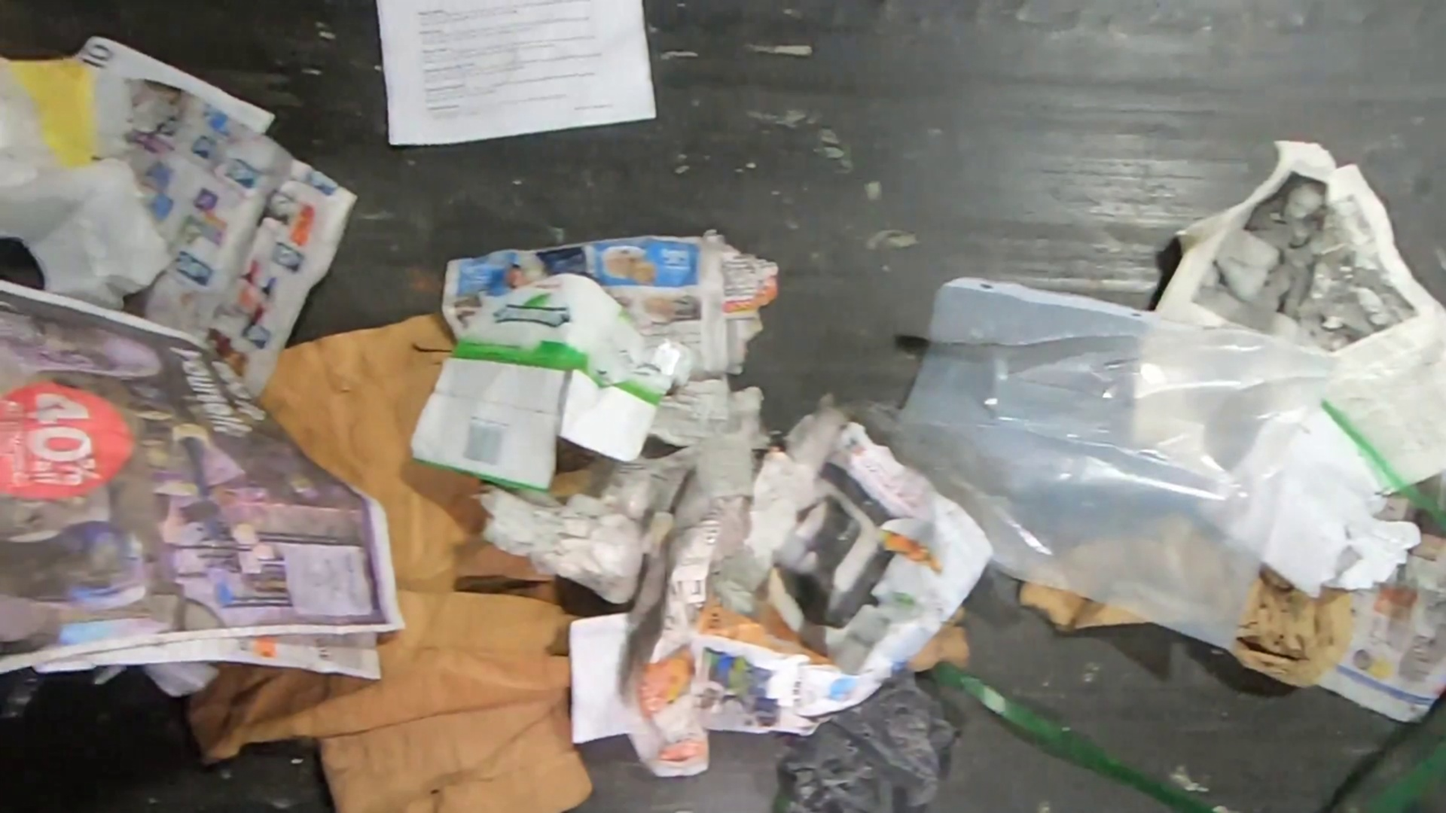cardboard: (185, 310, 595, 813), (409, 272, 697, 494), (1232, 563, 1354, 688), (1017, 581, 1152, 634), (912, 605, 969, 673), (551, 456, 617, 507)
plastic: (884, 276, 1347, 652), (772, 676, 966, 813)
